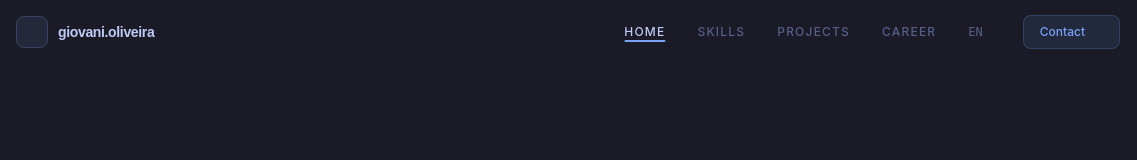
Navbar › toggles language on button click
The image size is (1137, 160).
Click the button "EN": click(976, 32) [968,24,983,40]
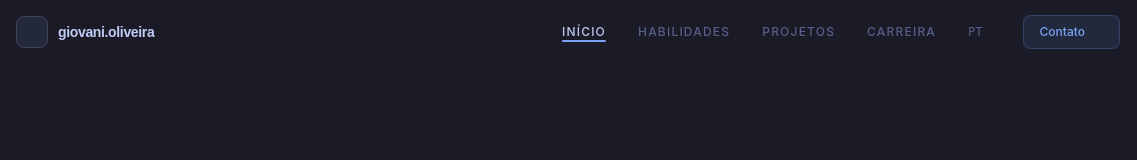
expect the button "PT" is shown: met, box [968,24,983,40]
